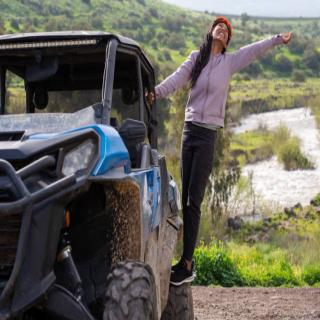Normal_vehicle: (0, 33, 186, 320)
